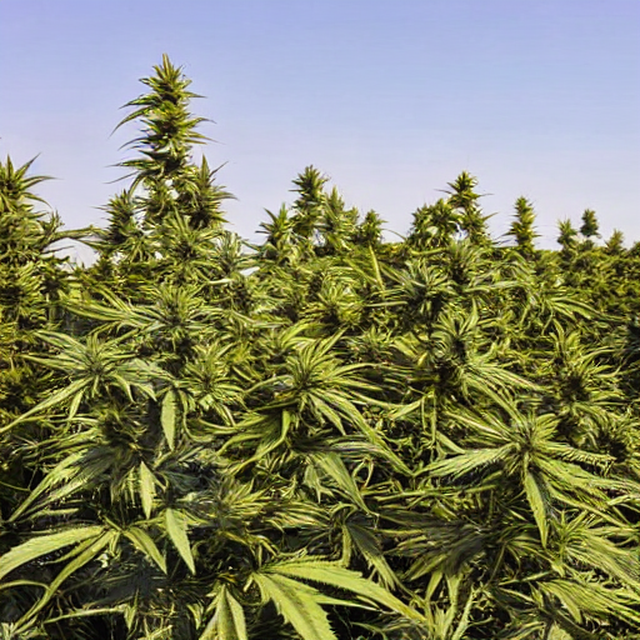Marijuana Joint: (1, 57, 640, 549)
